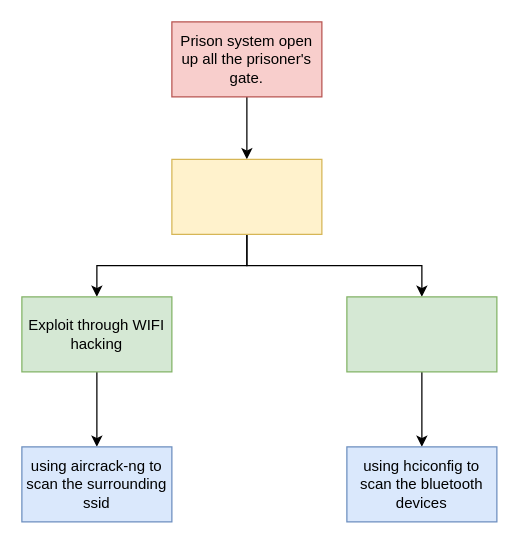
Image size: 519x544. Some labels were removed from this diagram. The box of each missing label's shape, as (x1, y1, x2, y2) in pixels:
Exploit the prison system: (171, 158, 322, 234)
Exploit through Bluetooth devices (laptop): (346, 296, 497, 372)
